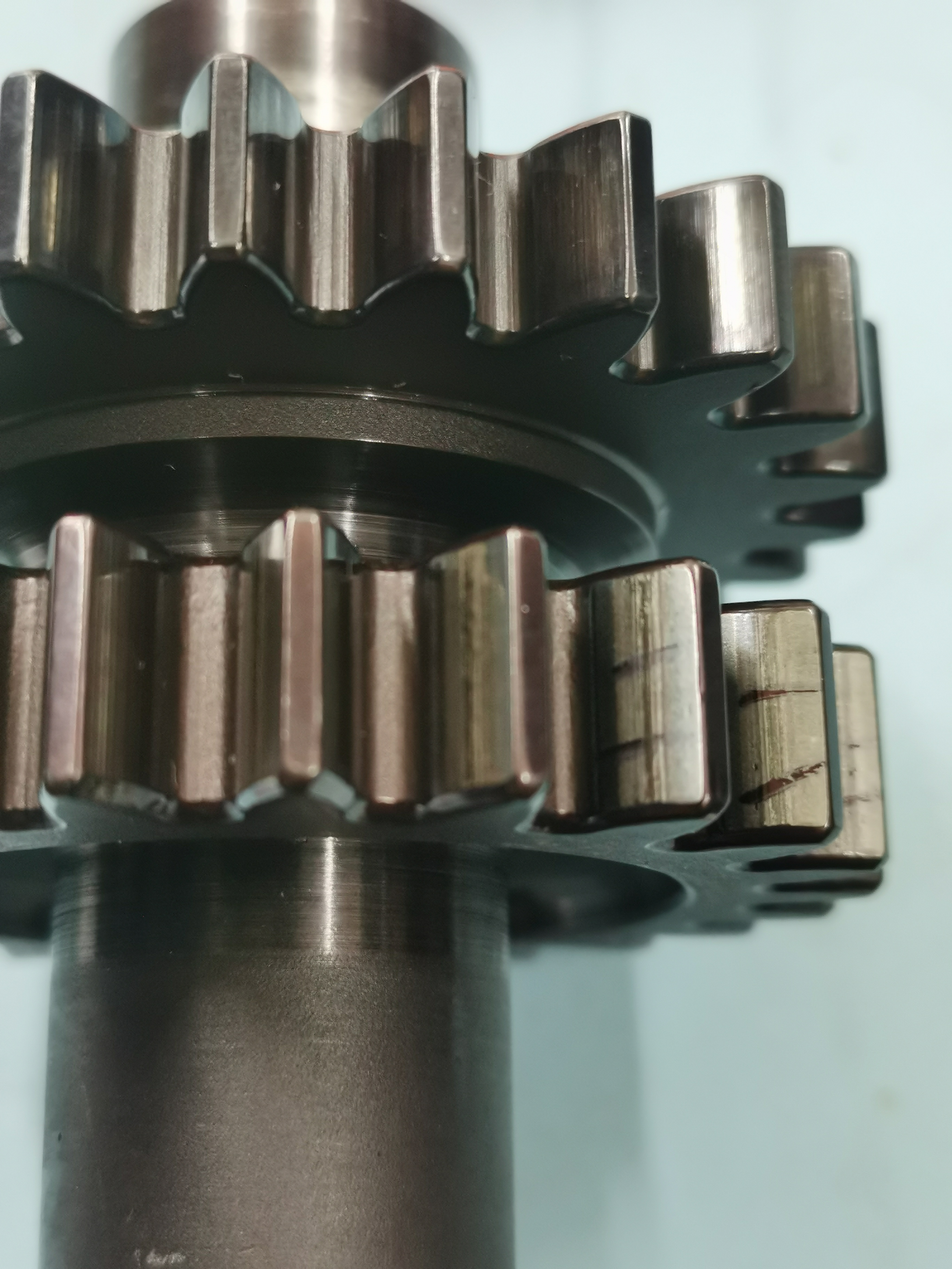Abrasion: (58, 518, 201, 821), (566, 550, 717, 828), (413, 529, 536, 810), (704, 591, 828, 846), (213, 504, 307, 813), (654, 164, 787, 379), (519, 102, 637, 341), (735, 235, 874, 432), (338, 58, 443, 316)
